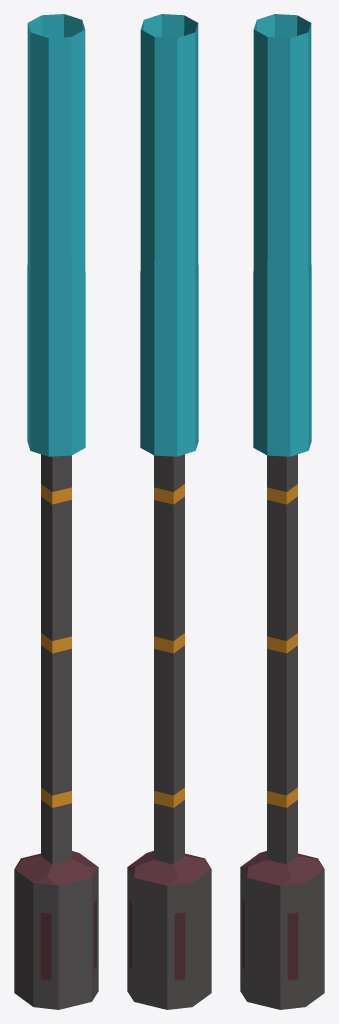
The model's file is scifi-lamp-city.fbx.
The picture shows the model from 3 angles, left to right: view 1: azimuth 30°, elevation 25°; view 2: azimuth 150°, elevation 25°; view 3: azimuth 330°, elevation 25°; orthographic projection.
Visible parts, largest first — view 1: scifi-lamp-city; view 2: scifi-lamp-city; view 3: scifi-lamp-city.
Boxes of the visible parts, left/top/right/bottom form: scifi-lamp-city: left=14, top=14, right=98, bottom=1009; scifi-lamp-city: left=127, top=14, right=211, bottom=1009; scifi-lamp-city: left=240, top=14, right=324, bottom=1009.
Bounding box in the file's own units: 0.5498 × 7.78 × 0.5498.
